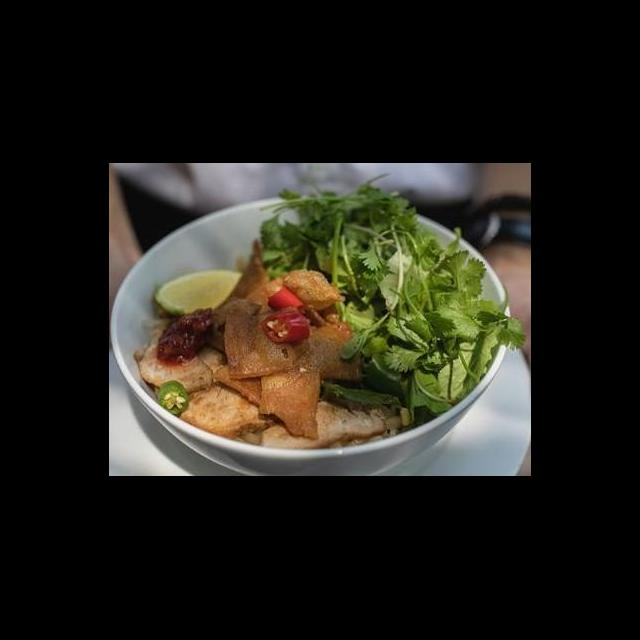banh da: (210, 266, 346, 331), (220, 310, 314, 380), (253, 366, 326, 446), (280, 318, 367, 384), (215, 237, 272, 316)
thit heo: (254, 392, 405, 458), (129, 314, 232, 394), (172, 378, 289, 442)
